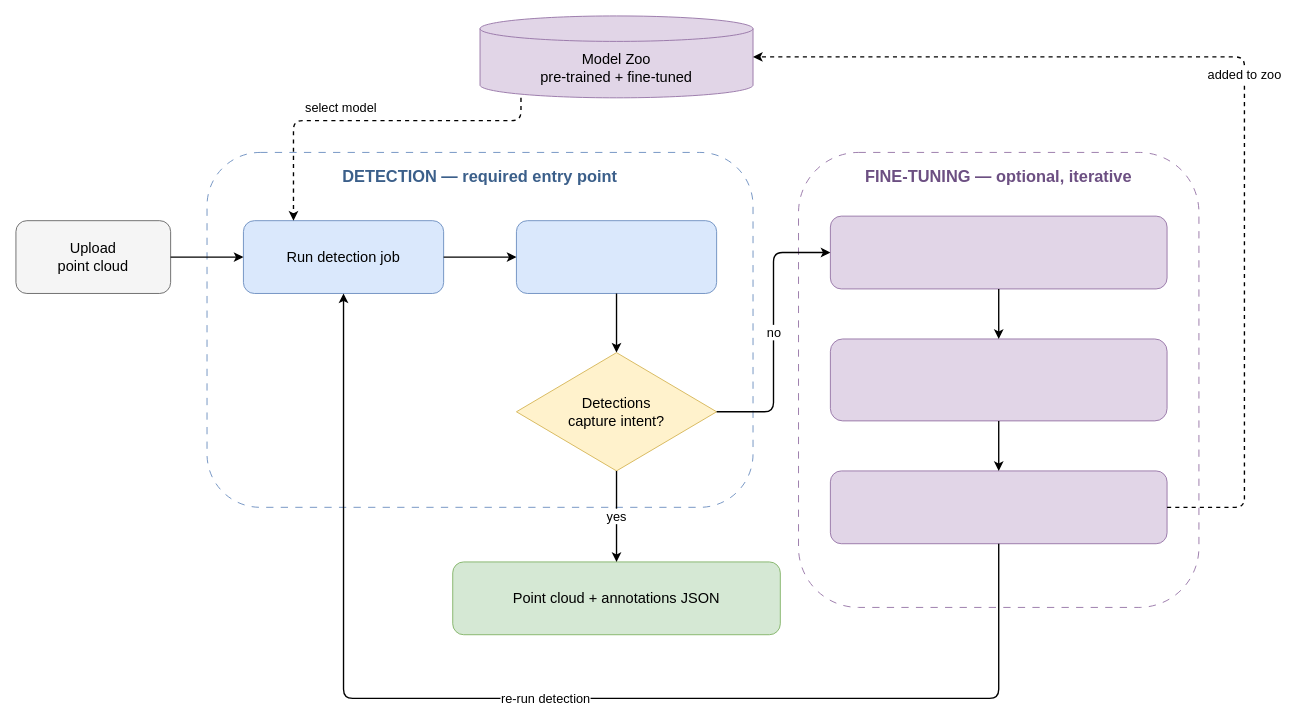
The diagram is 1297 pixels wide and 723 high, and some of its shapes have lost their labels. Each missing label, with the centre of its shape:
"Edit annotations" goes at pixel 998 252.
"Register fine-tuned model" goes at pixel 998 507.
"Review results in 3D viewer" goes at pixel 616 256.
"Run fine-tuning job on baseline or latest model" goes at pixel 998 379.
